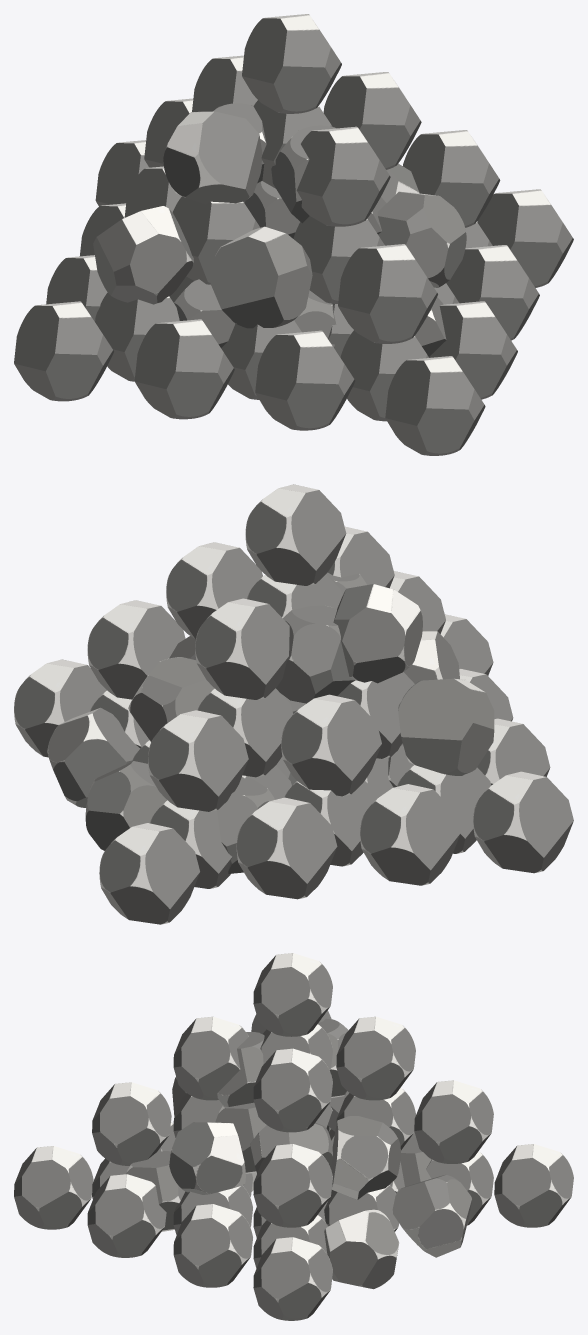
The model's file is montagne.fbx.
3 renders of one model, top to bottom at view 1: azimuth 30°, elevation 25°; view 2: azimuth 150°, elevation 25°; view 3: azimuth 270°, elevation 25°, orthographic. The views are drawn at different scales.
Parts seen in each view (by area): view 1: Cube.033, Cube.027, Cube.043, Cube.041, Cube.007, Cube.019, Cube, Cube.015, Cube.024, Cube.012, Cube.023, Cube.026 (+24 smaller); view 2: Cube.019, Cube.006, Cube.015, Cube.042, Cube.040, Cube.011, Cube.024, Cube.035, Cube.014, Cube.027, Cube.023, Cube.026 (+22 smaller); view 3: Cube.026, Cube.015, Cube.018, Cube.006, Cube.014, Cube.023, Cube.037, Cube, Cube.011, Cube.007, Cube.036, Cube.039 (+18 smaller).
Boxes of the visible parts, box(x1,y1,x2,y2) form: Cube.033: box(210, 226, 312, 328); Cube.027: box(163, 111, 262, 204); Cube.043: box(255, 330, 355, 430); Cube.041: box(134, 319, 234, 419); Cube.007: box(338, 244, 437, 343); Cube.019: box(14, 301, 113, 401); Cube: box(385, 356, 485, 455); Cube.015: box(242, 14, 341, 113); Cube.024: box(93, 206, 193, 304); Cube.012: box(296, 126, 390, 226); Cube.023: box(403, 130, 500, 227); Cube.026: box(323, 72, 421, 169); Cube.019: box(473, 771, 573, 873); Cube.006: box(99, 823, 199, 924); Cube.015: box(245, 484, 346, 585); Cube.042: box(360, 784, 460, 885); Cube.040: box(236, 797, 337, 899); Cube.011: box(148, 710, 248, 811); Cube.024: box(398, 678, 494, 775); Cube.035: box(281, 694, 381, 796); Cube.014: box(195, 598, 289, 699); Cube.027: box(333, 584, 422, 683); Cube.023: box(87, 600, 185, 699); Cube.026: box(166, 542, 262, 639); Cube.026: box(253, 1048, 332, 1132); Cube.015: box(253, 953, 332, 1036); Cube.018: box(253, 1237, 332, 1320); Cube.006: box(494, 1144, 573, 1227); Cube.014: box(336, 1016, 415, 1100); Cube.023: box(253, 1144, 332, 1227); Cube.037: box(173, 1204, 252, 1287); Cube: box(14, 1146, 93, 1229); Cube.011: box(414, 1080, 493, 1163); Cube.007: box(92, 1082, 171, 1165); Cube.036: box(87, 1174, 166, 1257); Cube.039: box(392, 1174, 472, 1257).
Size of the model in its own units: 1607 by 931 by 1764.
1 material, 1 textured.
